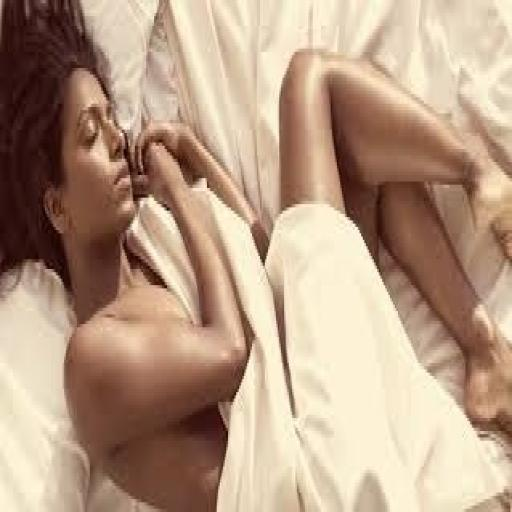sleeping: (2, 3, 508, 506)
